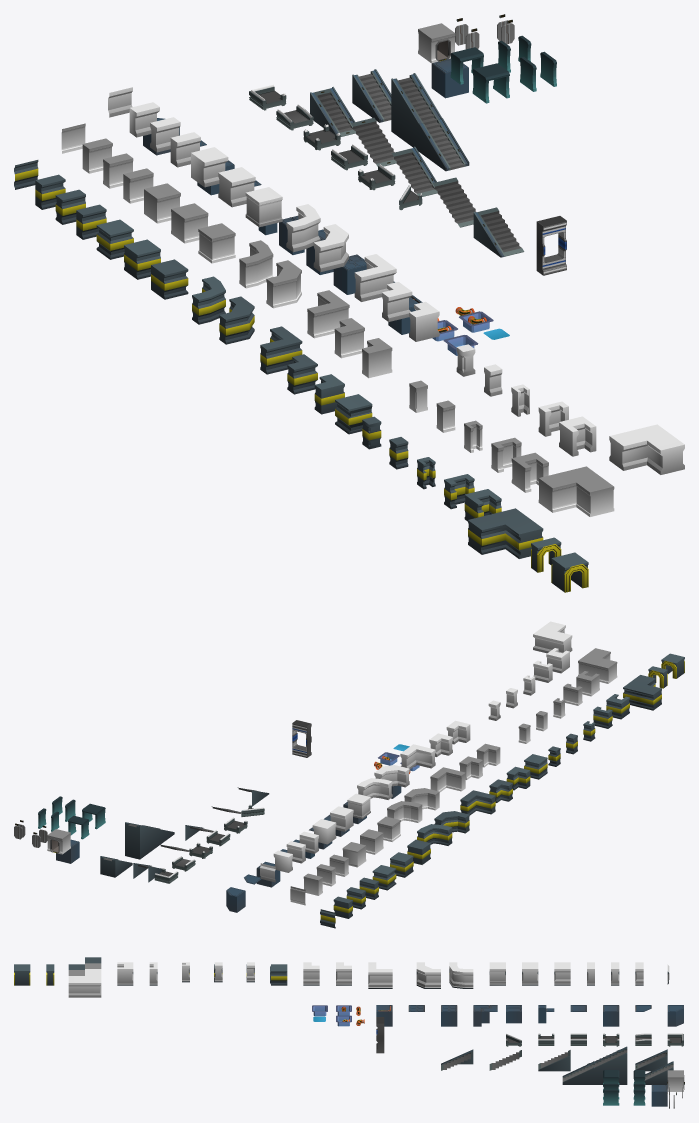
File: ModuloGradient02.fbx
3 views of the same model, one above another, from view 1: azimuth 30°, elevation 25°; view 2: azimuth 150°, elevation 25°; view 3: azimuth 270°, elevation 25° (orthographic). The views are drawn at different scales.
Parts seen in each view (by area): view 1: Escalera005, ParedMitadEsqL1x1, ParedAltaEsqL1x1, SubParedEsqL1x1, EscaleraDer01, Escalera006, Escalera01, Box050, ParedAltaEsqExt1x1Rect, ParedBajaEsqExt1x1Rect, ParedEsqExt1x1Rect, ParedBajaEsqExt1x1Curva02 (+32 smaller); view 2: Escalera005, SubParedEsqL1x1, ParedMitadEsqL1x1, ParedAltaEsqL1x1, ParedAltaEsqExt1x1Rect, ParedBajaEsqExt1x1Rect, ParedEsqExt1x1Rect, ParedAltaEsqExt1x1Curva01, ParedBajaEsqExt1x1Curva01, ParedEsqExt1x1Curva01, ParedAltaEsqExt1x1Curva02, ParedBajaEsqExt1x1Curva02 (+9 smaller); view 3: Escalera005, ParedAltaEsqL1x1, Piso01 (×2), ParedEsqExt1x1Rect, ParedEsqExt1x1Curva02, ParedEsqExt1x1Curva01, EscaleraIzq01, Escalera01, Escalera006, ParedBajaEsquinero1x1, Puerta01, Pasadiso1X101SinTecho01 (+16 smaller).
Part boxes in pixels (x1,y1,x2,y2): Escalera005: (391,73,469,171); ParedMitadEsqL1x1: (538,466,614,516); ParedAltaEsqL1x1: (609,424,684,474); SubParedEsqL1x1: (468,508,543,558); EscaleraDer01: (473,207,524,257); Escalera006: (352,69,391,122); Escalera01: (310,86,355,136); Box050: (536,216,566,275); ParedAltaEsqExt1x1Rect: (307,290,349,338); ParedBajaEsqExt1x1Rect: (260,326,302,374); ParedEsqExt1x1Rect: (354,254,396,301); ParedBajaEsqExt1x1Curva02: (219,296,254,344); Escalera005: (125,822,174,859); SubParedEsqL1x1: (623,675,661,710); ParedMitadEsqL1x1: (578,648,617,683); ParedAltaEsqL1x1: (533,621,572,653); ParedAltaEsqExt1x1Rect: (430,767,465,792); ParedBajaEsqExt1x1Rect: (460,790,495,815); ParedEsqExt1x1Rect: (400,744,435,769); ParedAltaEsqExt1x1Curva01: (387,801,422,822); ParedBajaEsqExt1x1Curva01: (417,824,452,845); ParedEsqExt1x1Curva01: (357,778,392,799); ParedAltaEsqExt1x1Curva02: (404,788,439,810); ParedBajaEsqExt1x1Curva02: (434,811,469,833); Escalera005: (562,1046,627,1084); ParedAltaEsqL1x1: (68,969,101,997); Piso01 (×2): (603,1005,667,1106); ParedEsqExt1x1Rect: (368,962,392,986); ParedEsqExt1x1Curva02: (416,962,440,986); ParedEsqExt1x1Curva01: (449,962,473,986); EscaleraIzq01: (538,1050,570,1071); Escalera01: (635,1049,667,1071); Escalera006: (644,1061,673,1084); ParedBajaEsquinero1x1: (270,964,287,985); Puerta01: (667,1070,684,1091); Pasadiso1X101SinTecho01: (603,1083,619,1105).
Size of the model in its own units: 875 by 118 by 1631.
1 material, 1 textured.
